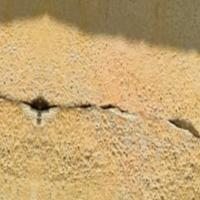crack: (1, 71, 199, 155)
